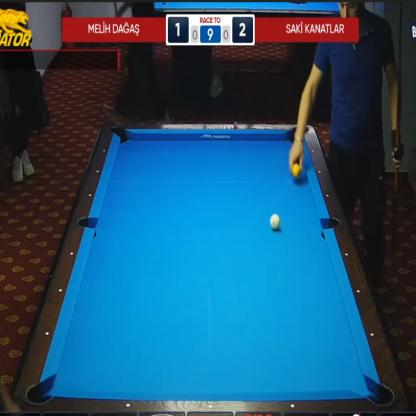Ball: (270, 214, 280, 229), (292, 162, 300, 178)
